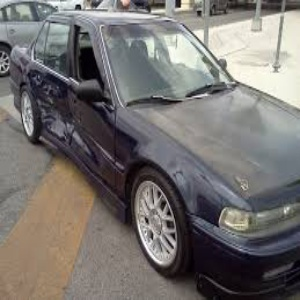door: (40, 100, 108, 161)
